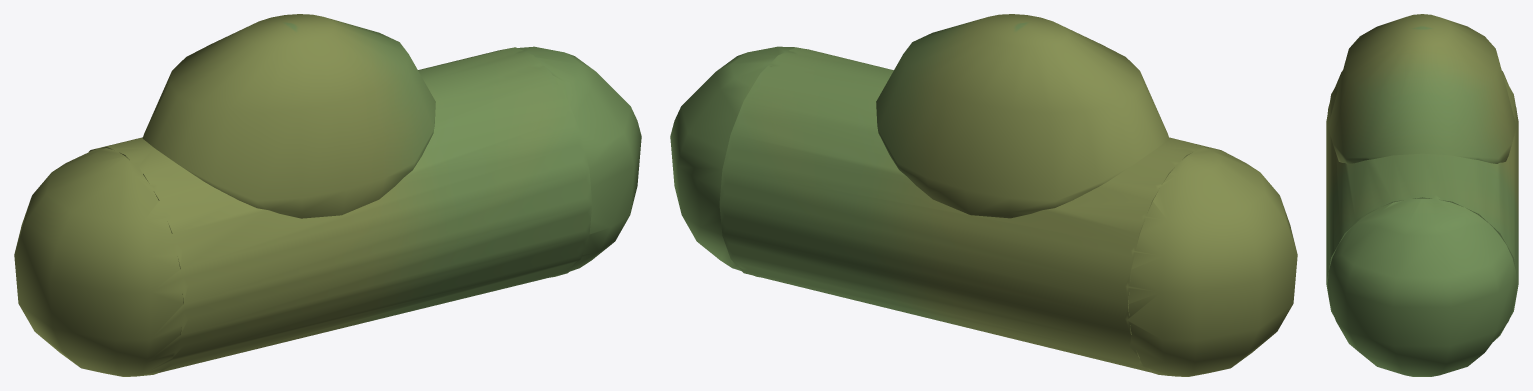
The model's file is arbusto.obj.
The picture shows the model from 3 angles, left to right: view 1: azimuth 30°, elevation 25°; view 2: azimuth 150°, elevation 25°; view 3: azimuth 270°, elevation 25°; orthographic projection. The views are drawn at different scales.
Parts seen in each view (by area): view 1: pasted__polySurface2 group2; view 2: pasted__polySurface2 group2; view 3: pasted__polySurface2 group2.
Boxes of the visible parts, box(x1,y1,x2,y2) form: pasted__polySurface2 group2: box(14, 14, 641, 376); pasted__polySurface2 group2: box(670, 14, 1297, 376); pasted__polySurface2 group2: box(1326, 14, 1518, 376).
Bounding box in the file's own units: 1.72 × 0.8393 × 0.591.
Materials: 1 (1 with a texture image).
